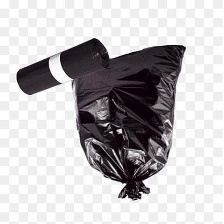plastic_bag: (67, 37, 189, 205), (12, 36, 114, 100)
